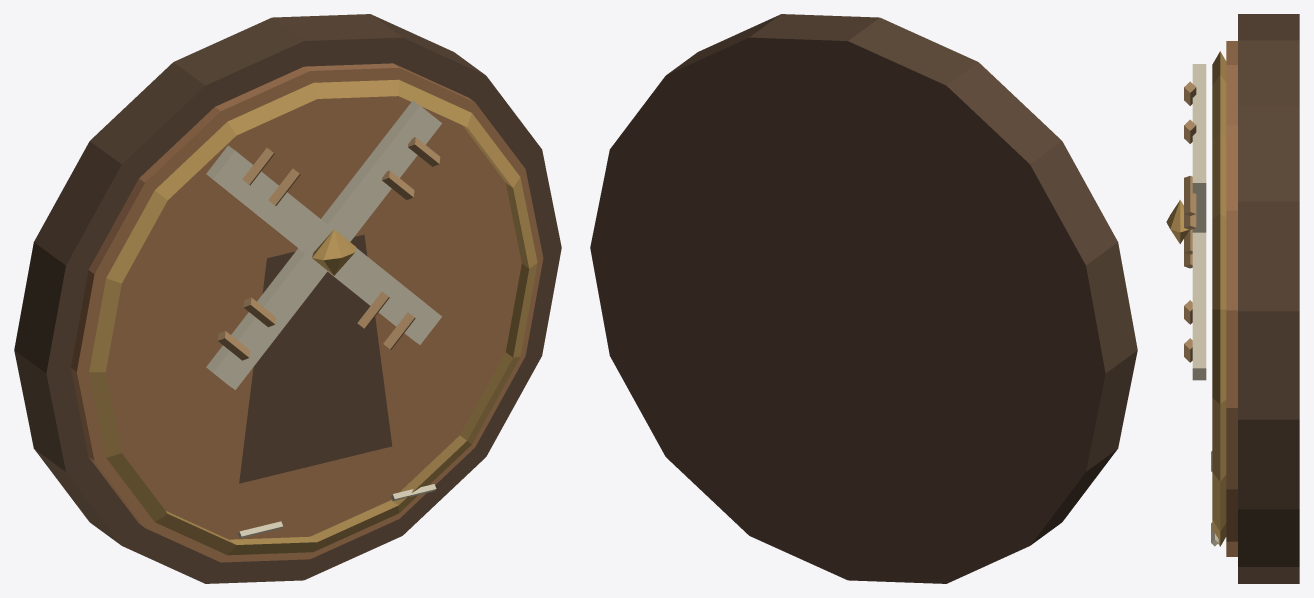
Rendered from decor_windmill_plaque.glb.
3 views of the same model, side by side, from view 1: azimuth 30°, elevation 25°; view 2: azimuth 150°, elevation 25°; view 3: azimuth 270°, elevation 25° (orthographic). The views are drawn at different scales.
Visible parts, largest first — view 1: geometry; view 2: geometry; view 3: geometry.
Part boxes in pixels (x1,y1,x2,y2): geometry: (14, 14, 561, 583); geometry: (590, 14, 1137, 583); geometry: (1166, 14, 1299, 583).
Size of the model in its own units: 0.74 by 0.74 by 0.173.
